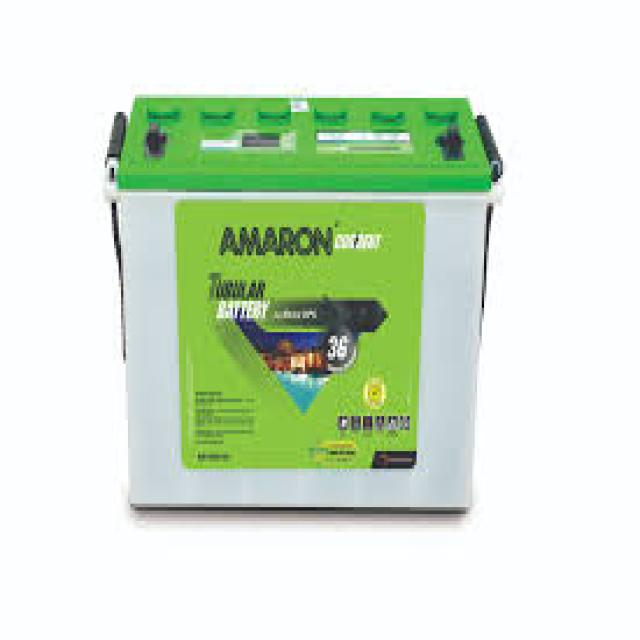Battery: (126, 96, 486, 512)
